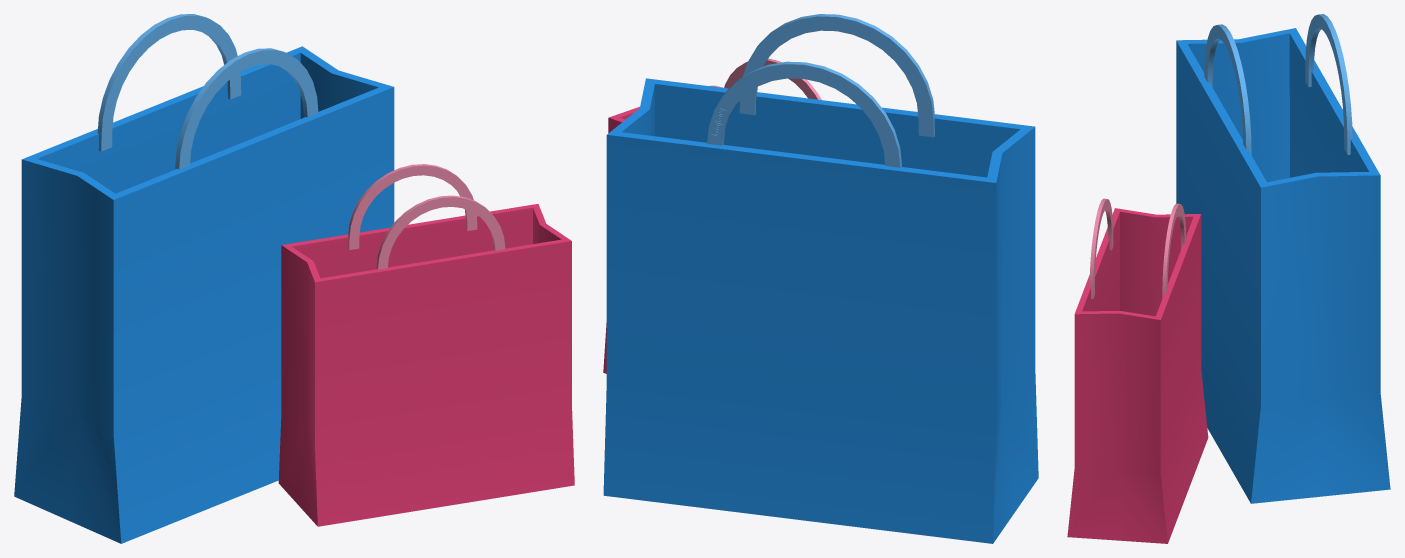
File: shopping_bags.glb
The picture shows the model from 3 angles, left to right: view 1: azimuth 30°, elevation 25°; view 2: azimuth 150°, elevation 25°; view 3: azimuth 270°, elevation 25°; orthographic projection. The views are drawn at different scales.
Parts seen in each view (by area): view 1: Cube.817; view 2: Cube.817; view 3: Cube.817.
Part boxes in pixels (left/top/right/bottom): Cube.817: left=14, top=14, right=574, bottom=543; Cube.817: left=603, top=14, right=1038, bottom=543; Cube.817: left=1067, top=14, right=1390, bottom=543.
Size of the model in its own units: 2.43 by 2.22 by 1.65.
Materials: 1 (1 with a texture image).
